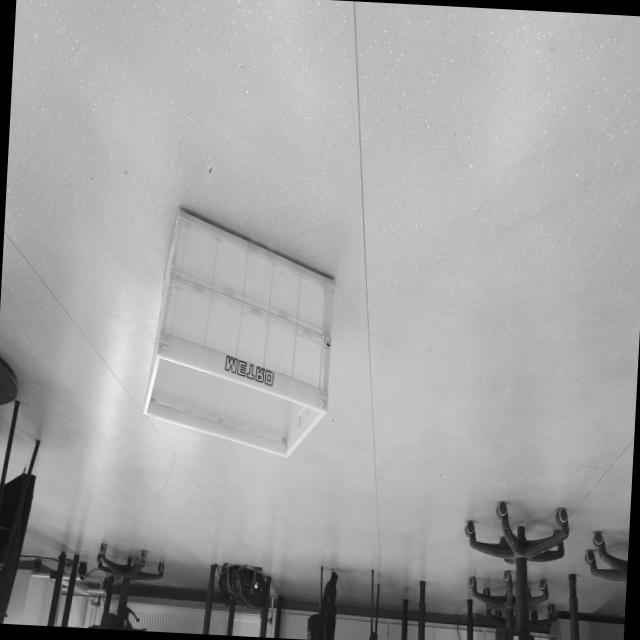box: (133, 202, 348, 470)
